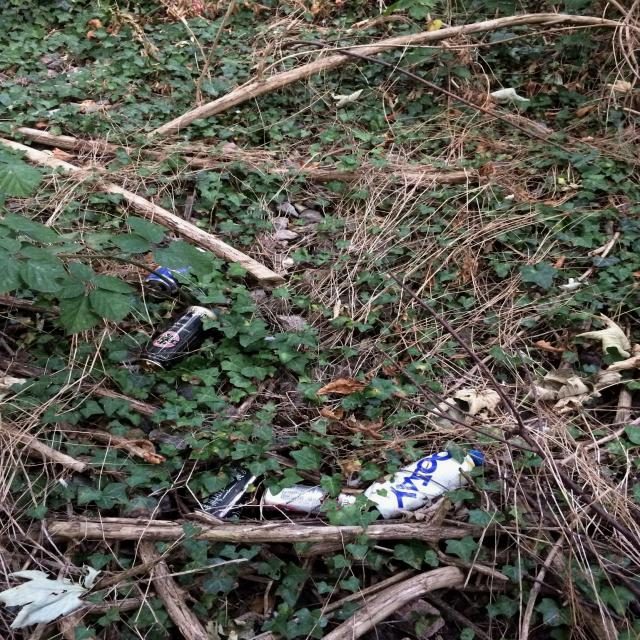Clear plastic bottle: (363, 471, 448, 519), (401, 451, 484, 490)
Drink can: (138, 306, 217, 373), (194, 466, 256, 515), (264, 484, 325, 514), (146, 271, 175, 299), (155, 266, 192, 286)
Plastic bottle cap: (473, 449, 486, 464)
Pop tab: (149, 364, 156, 373)
